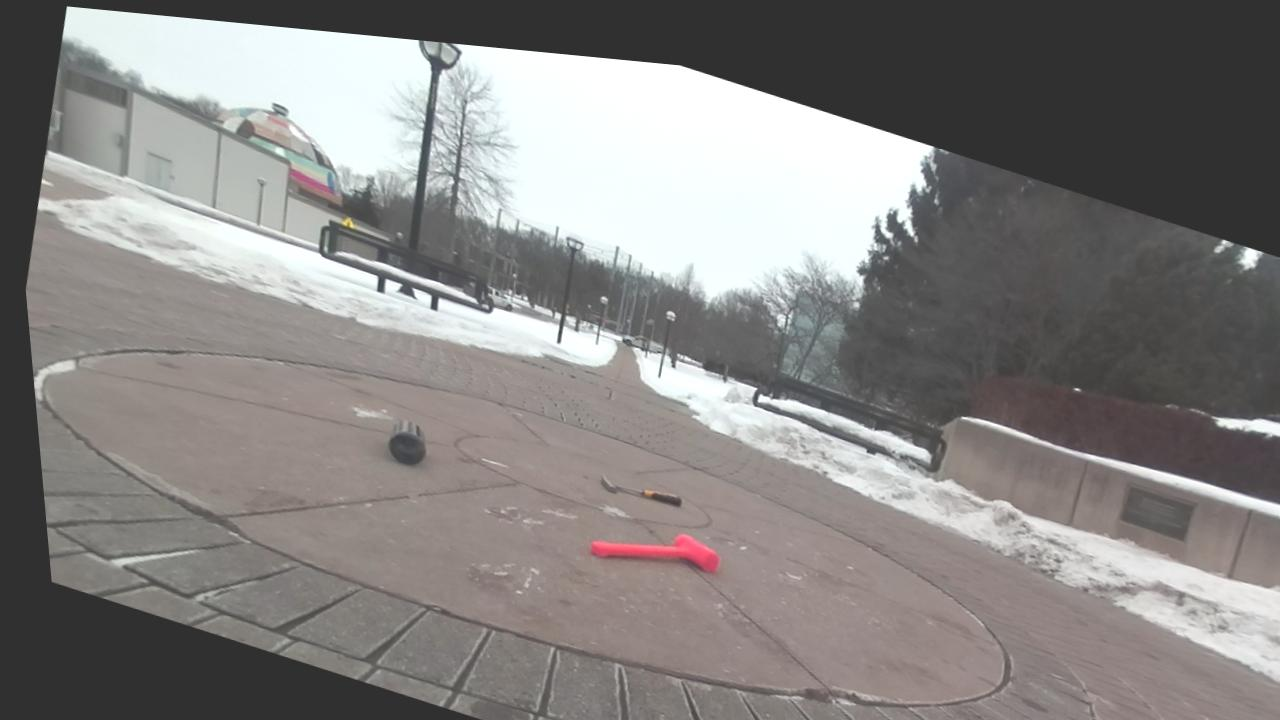bottle: (389, 420, 425, 464)
mallet: (592, 533, 718, 571)
pick: (601, 476, 681, 506)
